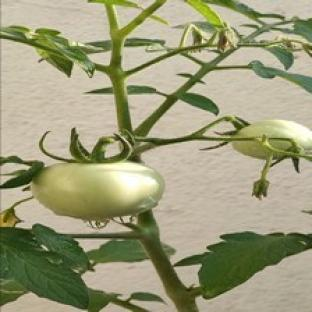Tomato: (31, 162, 164, 221), (236, 120, 311, 151)
